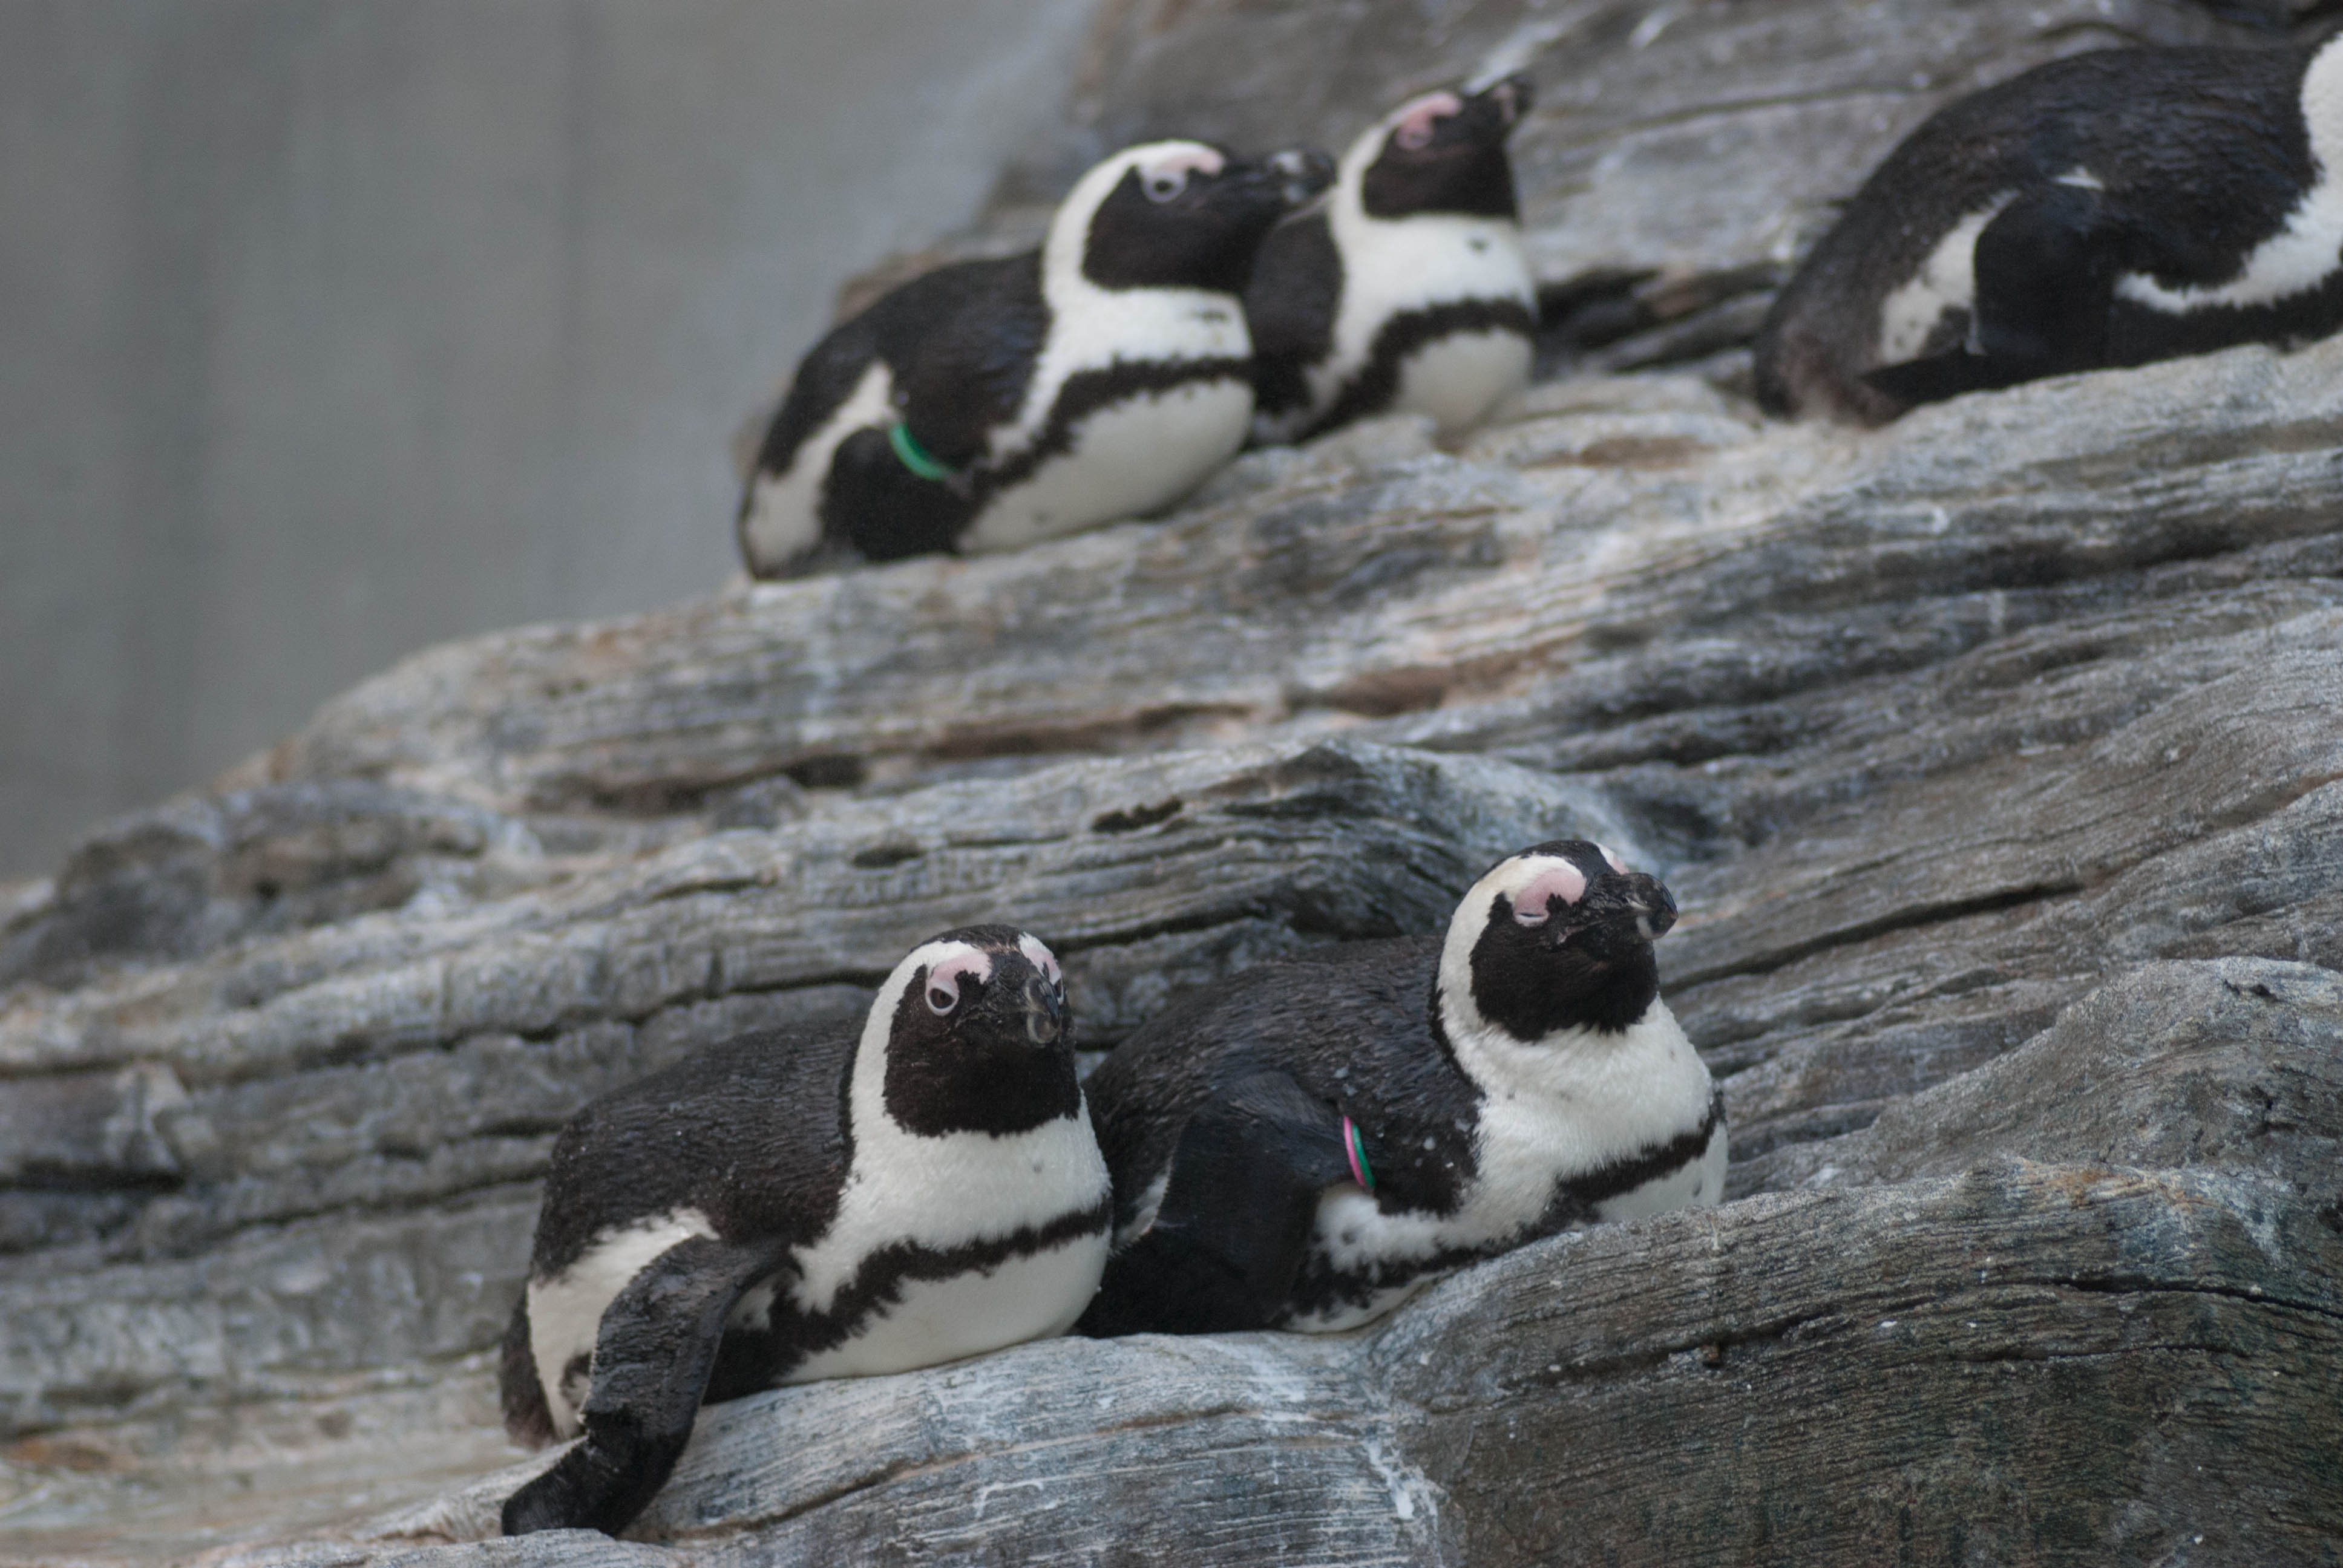penguin: (509, 915, 1116, 1568), (1111, 828, 1736, 1346)
